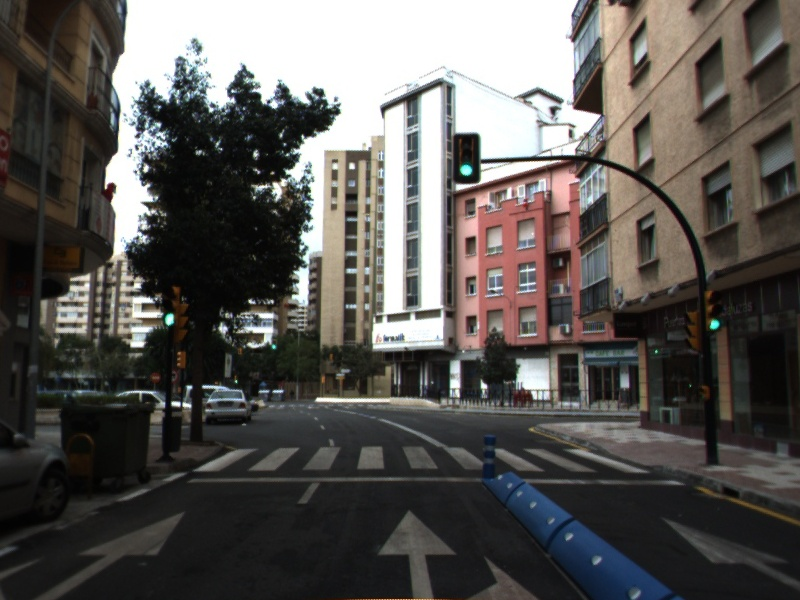STRAIGHT: (28, 507, 191, 600), (656, 512, 800, 593)
STRAIGHT_RIGHT: (373, 505, 542, 600)
